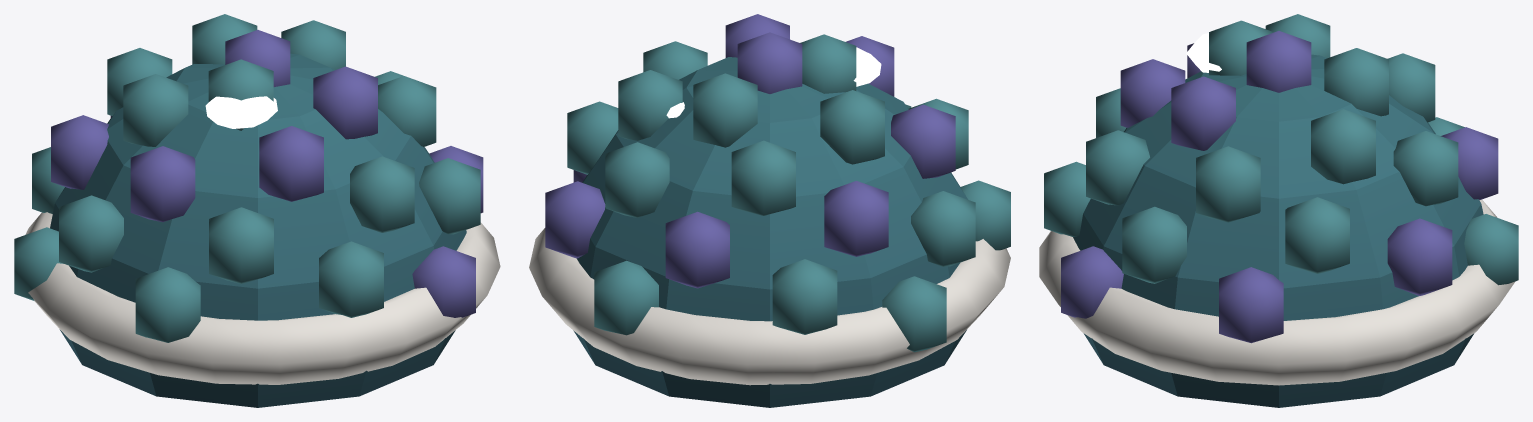
The model's file is part_eye_compound.glb.
3 views of the same model, side by side, from view 1: azimuth 30°, elevation 25°; view 2: azimuth 150°, elevation 25°; view 3: azimuth 270°, elevation 25° (orthographic).
Parts seen in each view (by area): view 1: part_eye_compound_painted_mesh; view 2: part_eye_compound_painted_mesh; view 3: part_eye_compound_painted_mesh.
Part boxes in pixels (box(x1,y1,x2,y2)): part_eye_compound_painted_mesh: box(14, 14, 500, 407); part_eye_compound_painted_mesh: box(529, 14, 1010, 407); part_eye_compound_painted_mesh: box(1039, 14, 1518, 407).
Size of the model in its own units: 0.7327 by 0.485 by 0.7226.
